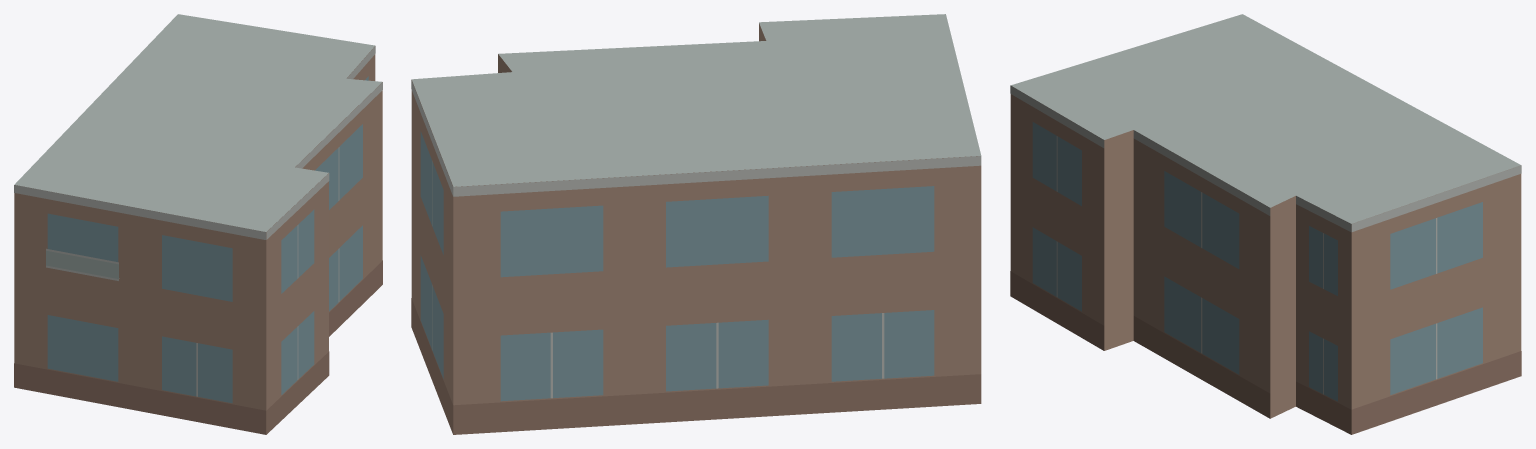
File: survey-upis-32954703.glb
3 views of the same model, side by side, from view 1: azimuth 30°, elevation 25°; view 2: azimuth 150°, elevation 25°; view 3: azimuth 270°, elevation 25° (orthographic). The views are drawn at different scales.
Visible parts, largest first — view 1: survey-upis-32954703.tmp; view 2: survey-upis-32954703.tmp; view 3: survey-upis-32954703.tmp.
Part boxes in pixels (x1,y1,x2,y2): survey-upis-32954703.tmp: [14, 14, 382, 434]; survey-upis-32954703.tmp: [411, 14, 981, 434]; survey-upis-32954703.tmp: [1010, 14, 1521, 434].
Bounding box in the file's own units: 13.03 × 6.1 × 13.4.
